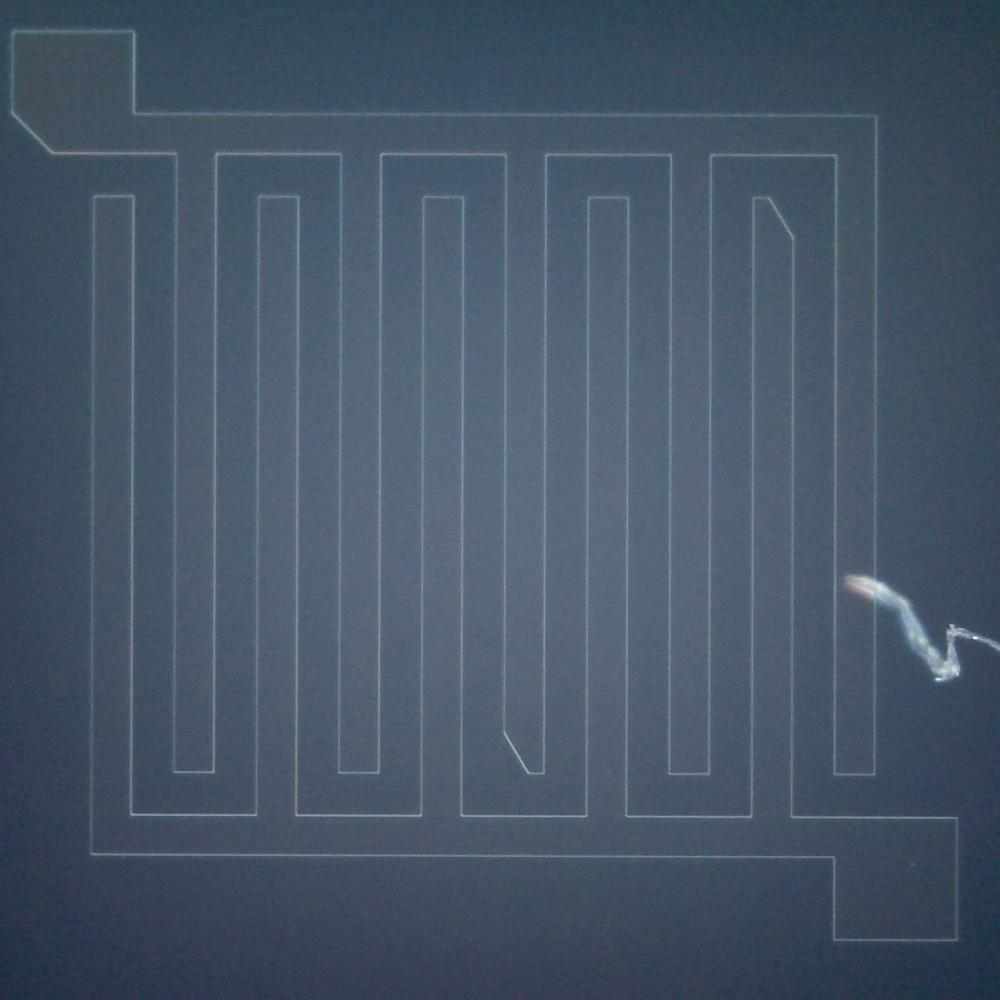edge circuit: (5, 99, 62, 164), (492, 716, 534, 782), (759, 188, 803, 246)
line: (841, 564, 999, 690)
